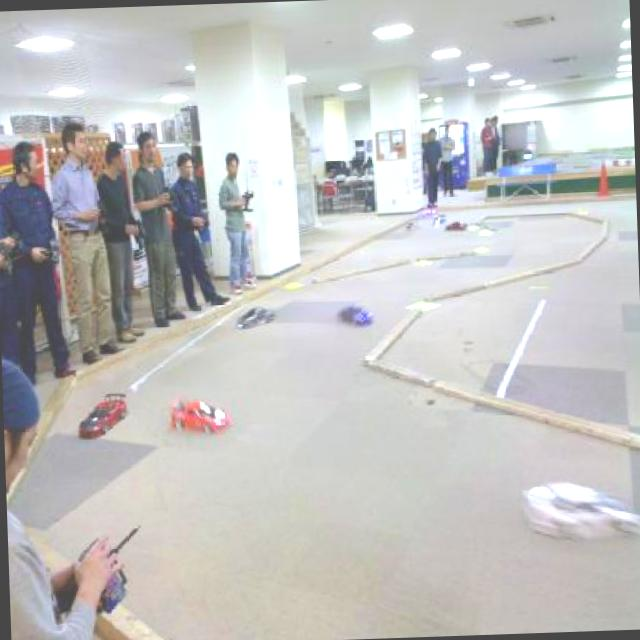Person: (1, 354, 129, 640), (0, 139, 77, 387), (48, 120, 125, 364), (130, 128, 186, 328), (92, 139, 144, 343), (169, 149, 230, 311), (216, 152, 256, 294), (421, 126, 444, 208), (437, 122, 457, 197), (479, 118, 494, 174), (492, 112, 502, 172), (488, 120, 497, 174), (363, 156, 372, 169)
